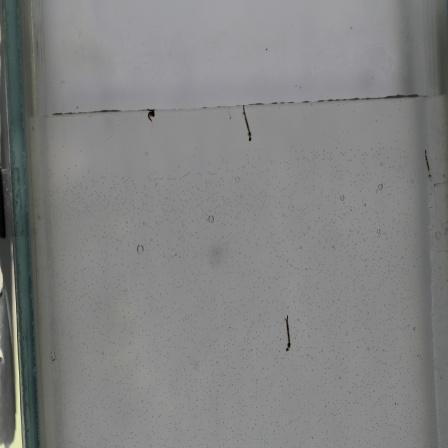Jentik-Nyamuk: (281, 313, 297, 357), (417, 145, 436, 182), (239, 104, 255, 144), (144, 108, 160, 125)
